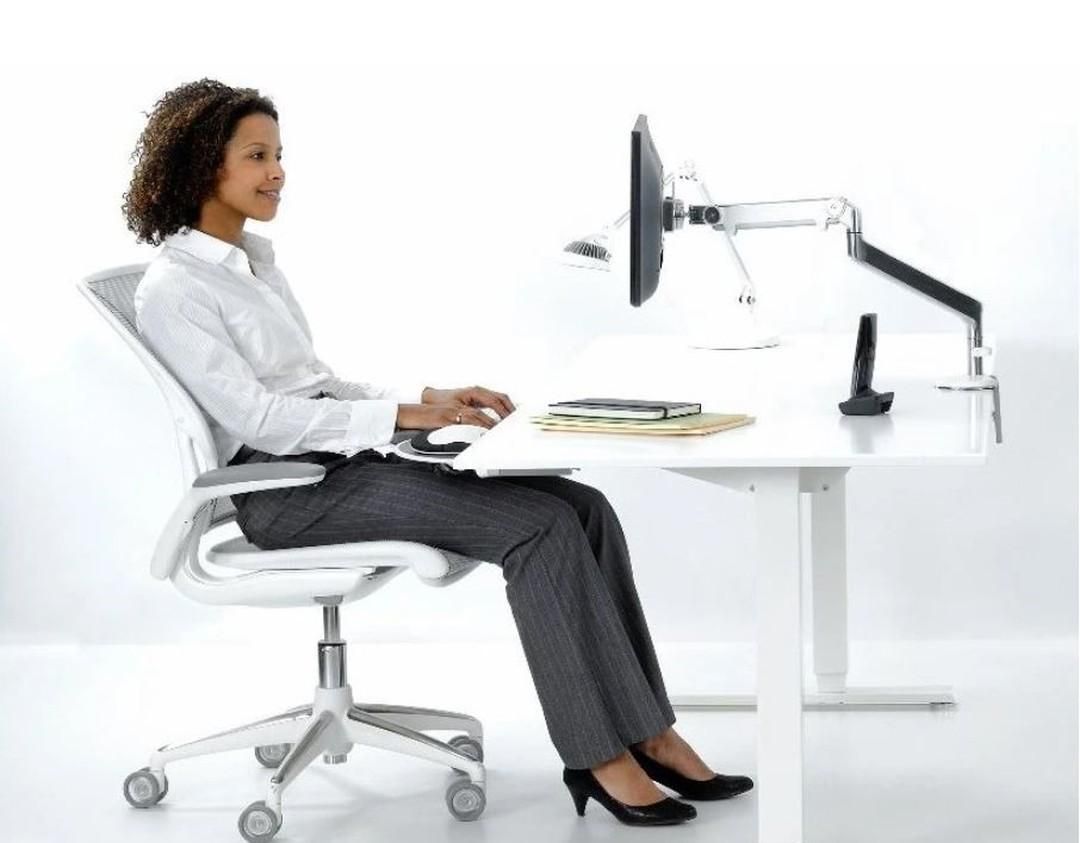Good Sitting Posture: (119, 76, 756, 831)
